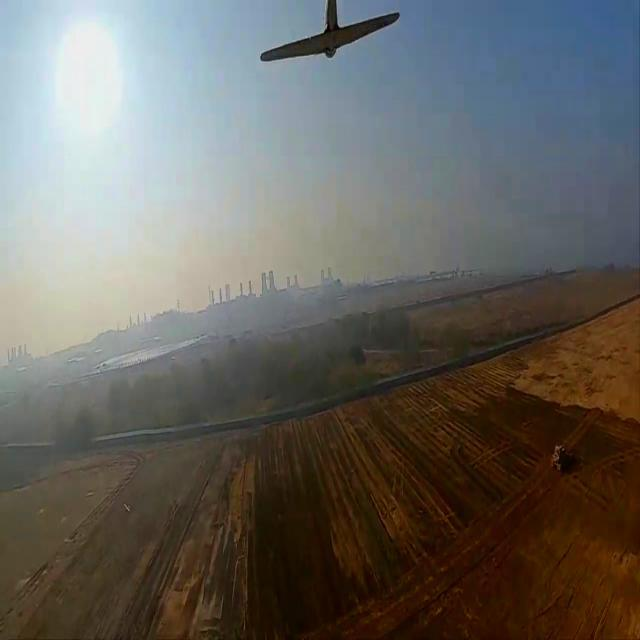iha: (244, 33, 401, 53)
